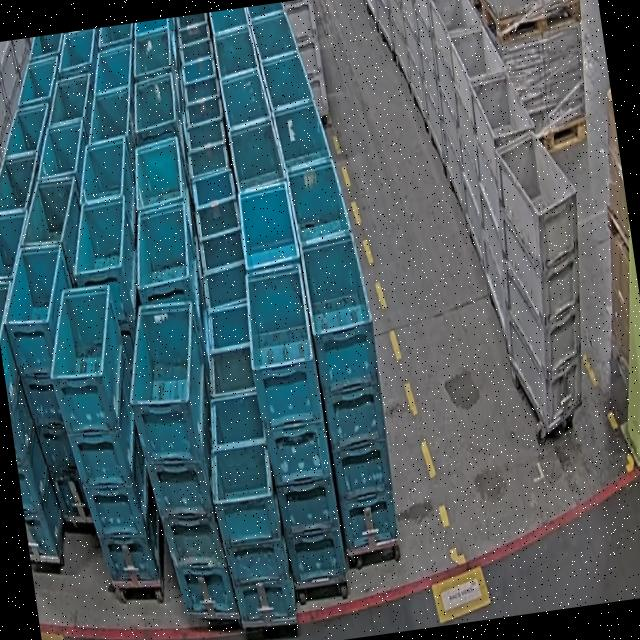4G: (477, 128, 608, 432)
B4: (40, 280, 169, 595), (117, 298, 240, 624), (238, 263, 347, 592), (298, 230, 404, 556), (0, 242, 106, 535), (0, 277, 69, 568)
B8: (200, 390, 296, 627)
